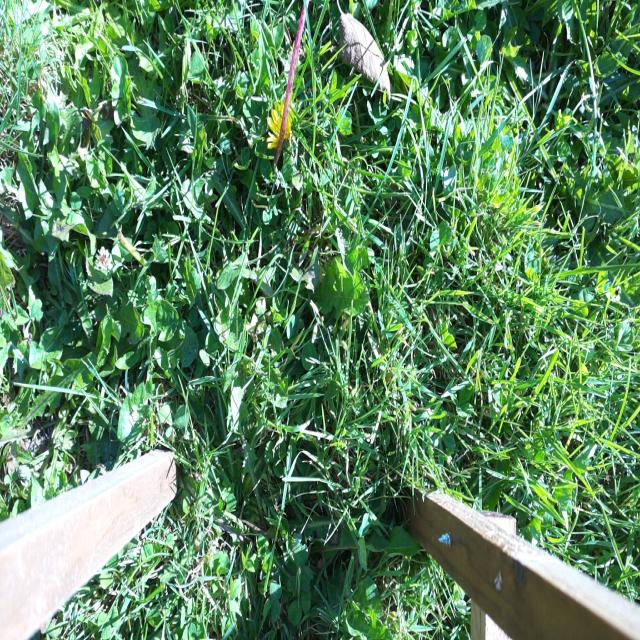base: (266, 149, 282, 177)
flower: (270, 102, 297, 146)
